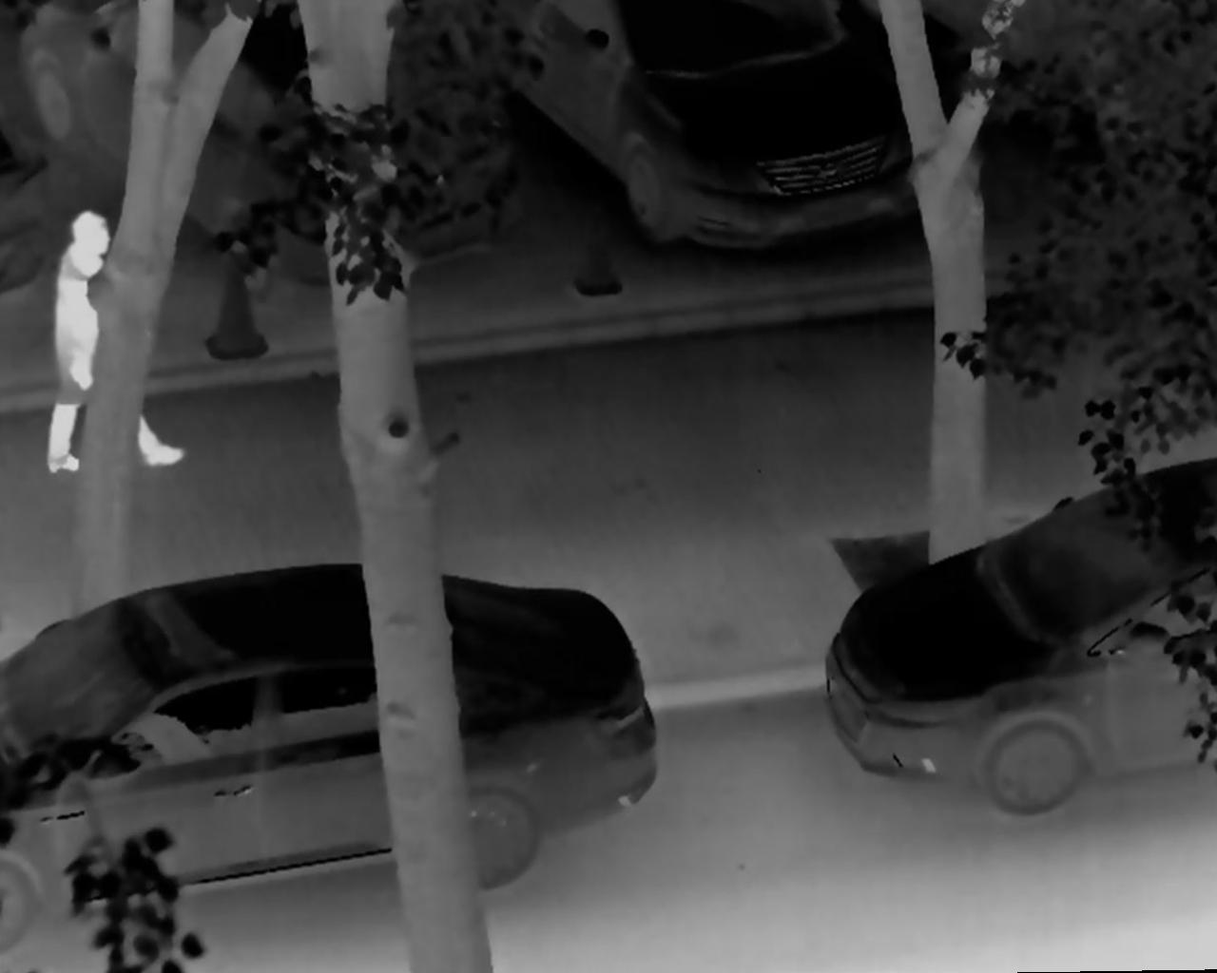person: (27, 207, 189, 475)
